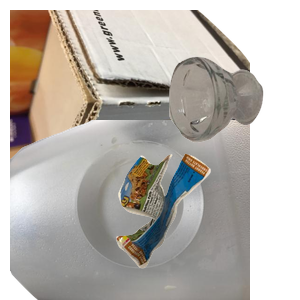cardboard: (10, 10, 250, 190)
glass: (166, 54, 300, 189)
plastic: (10, 120, 250, 300)
trash: (114, 151, 300, 300)
